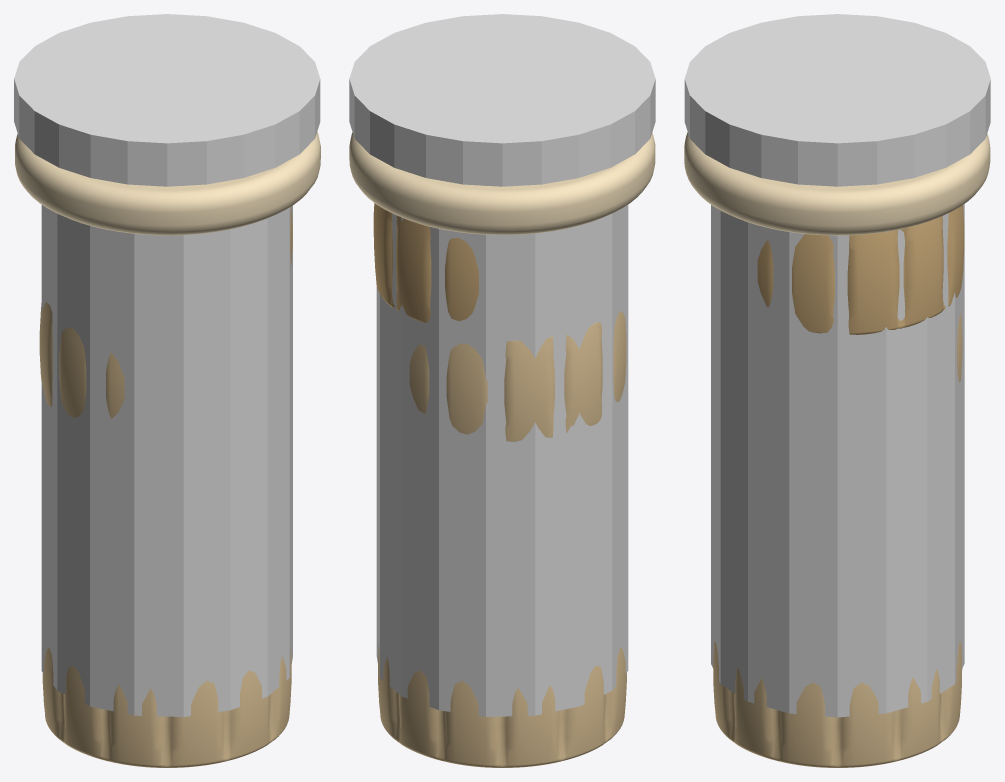
Rendered from SM_StonePillar (1).fbx.
The picture shows the model from 3 angles, left to right: view 1: azimuth 30°, elevation 25°; view 2: azimuth 150°, elevation 25°; view 3: azimuth 270°, elevation 25°; orthographic projection.
Parts seen in each view (by area): view 1: SM_StonePillar_Col_Shaft, SM_StonePillar_Col_Top, SM_StonePillar; view 2: SM_StonePillar_Col_Shaft, SM_StonePillar, SM_StonePillar_Col_Top; view 3: SM_StonePillar_Col_Shaft, SM_StonePillar, SM_StonePillar_Col_Top.
Boxes of the visible parts, x1,y1,x2,y2 form: SM_StonePillar_Col_Shaft: (41,185,292,716); SM_StonePillar_Col_Top: (14,14,320,186); SM_StonePillar: (15,132,320,767); SM_StonePillar_Col_Shaft: (376,185,628,716); SM_StonePillar: (349,132,655,767); SM_StonePillar_Col_Top: (349,14,655,186); SM_StonePillar_Col_Shaft: (711,204,964,717); SM_StonePillar: (684,132,990,767); SM_StonePillar_Col_Top: (684,14,990,186).
Bounding box in the file's own units: 1.28 × 2.95 × 1.28.
